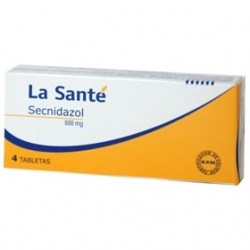LaSante: (5, 74, 239, 185)
